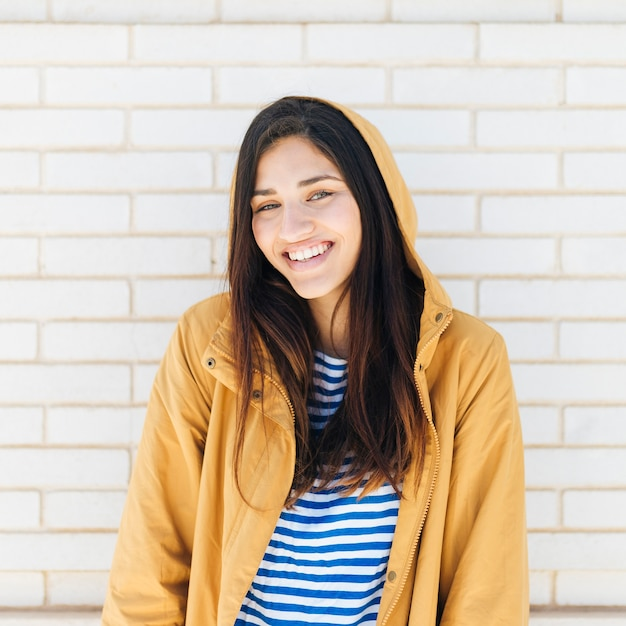teen: (229, 115, 394, 322)
